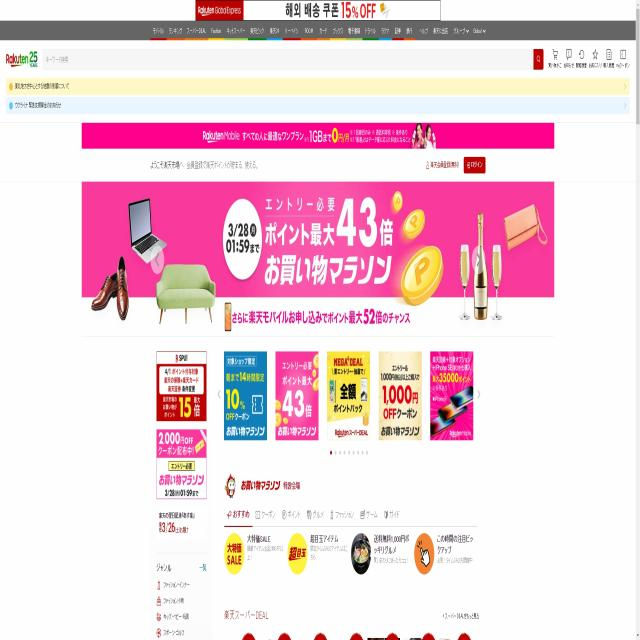menu-bar: (550, 45, 632, 72)
search: (41, 44, 546, 75)
side-panel: (154, 344, 210, 639)
tab-bar: (148, 22, 488, 38)
